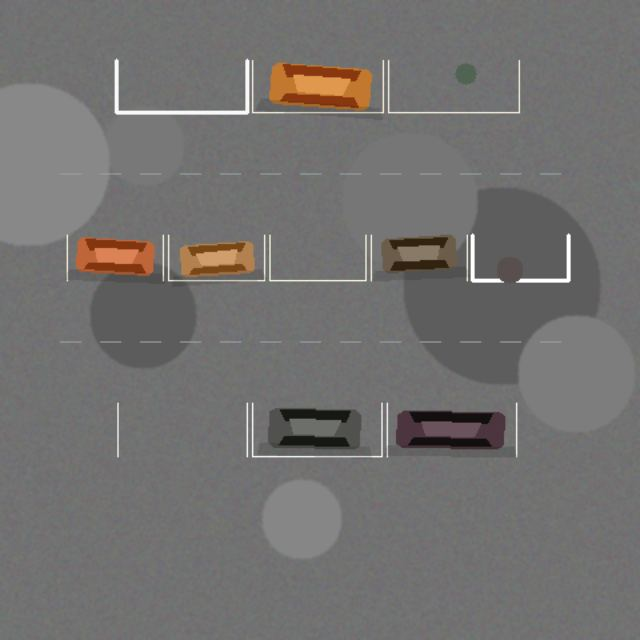space-empty: (117, 403, 247, 456), (116, 60, 247, 112), (388, 60, 519, 112), (269, 235, 365, 280), (472, 235, 568, 280)
space-occupied: (252, 403, 381, 456), (387, 403, 516, 456), (252, 60, 383, 112), (67, 235, 163, 280), (168, 235, 264, 280), (371, 235, 467, 280)
